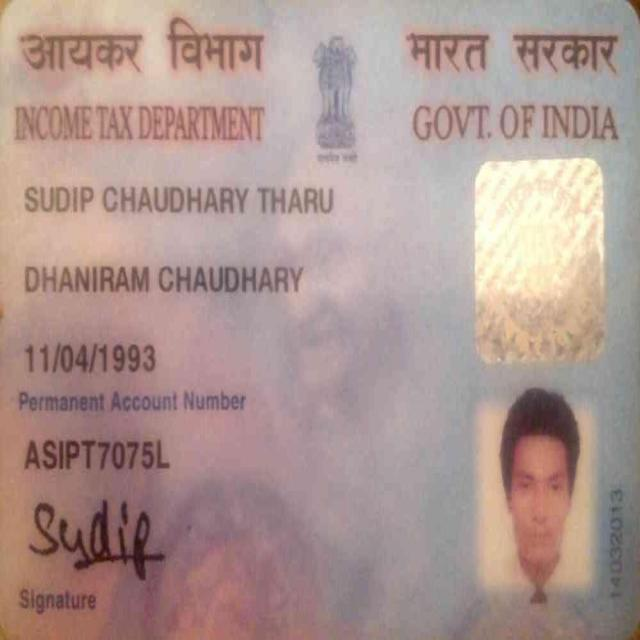pan_card: (2, 4, 639, 640)
